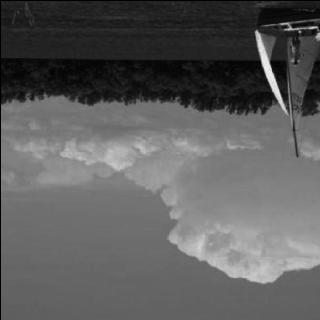Cumulonimbus: (0, 99, 320, 320)
